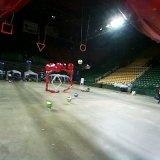Green_Balloon: (46, 101, 53, 109), (67, 96, 72, 103), (78, 59, 83, 65)
Orange_Circle_GShape: (80, 43, 86, 52)
Orange_Square_GShape: (0, 22, 14, 34)
Orange_Triangle_Gshape: (36, 42, 46, 52)
Purple_Balloon: (74, 93, 79, 98)
